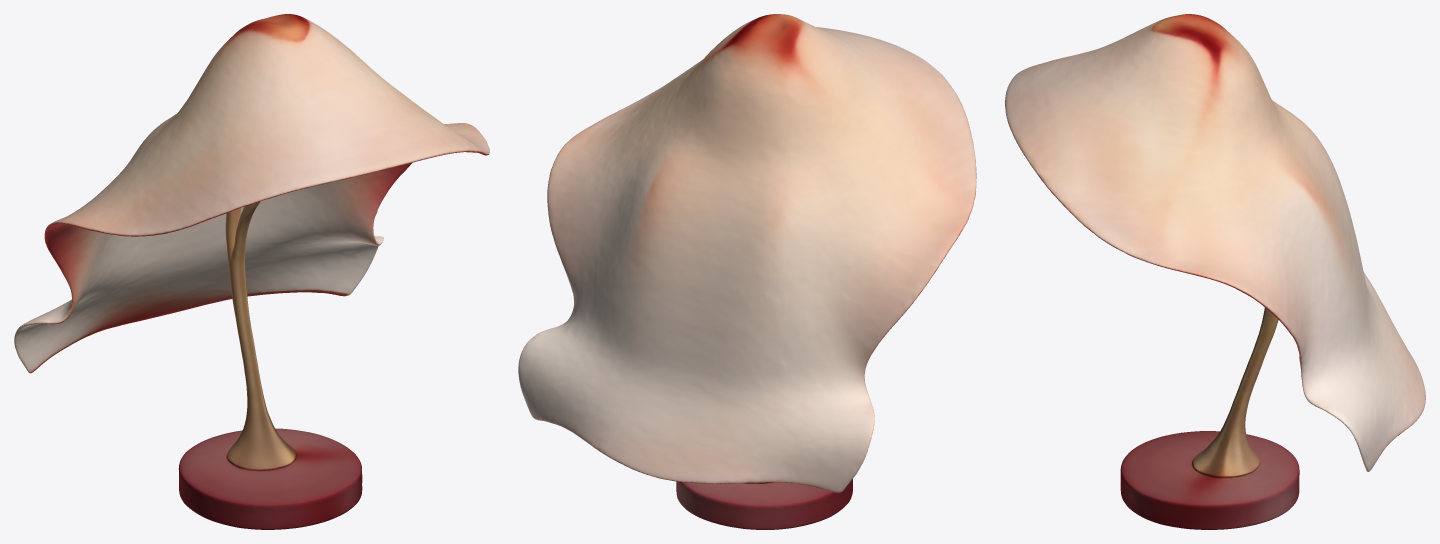
The model's file is cc208b57-9984-4523-b57d-585751dc9dba-base_basic_pbr.glb.
3 views of the same model, side by side, from view 1: azimuth 30°, elevation 25°; view 2: azimuth 150°, elevation 25°; view 3: azimuth 270°, elevation 25° (orthographic). The views are drawn at different scales.
Visible parts, largest first — view 1: model; view 2: model; view 3: model.
Part boxes in pixels (box(x1,y1,x2,y2)): model: box(14, 14, 489, 529); model: box(518, 14, 976, 529); model: box(1005, 14, 1425, 529).
Bounding box in the file's own units: 1.68 × 1.91 × 1.53.
1 material, 1 textured.
